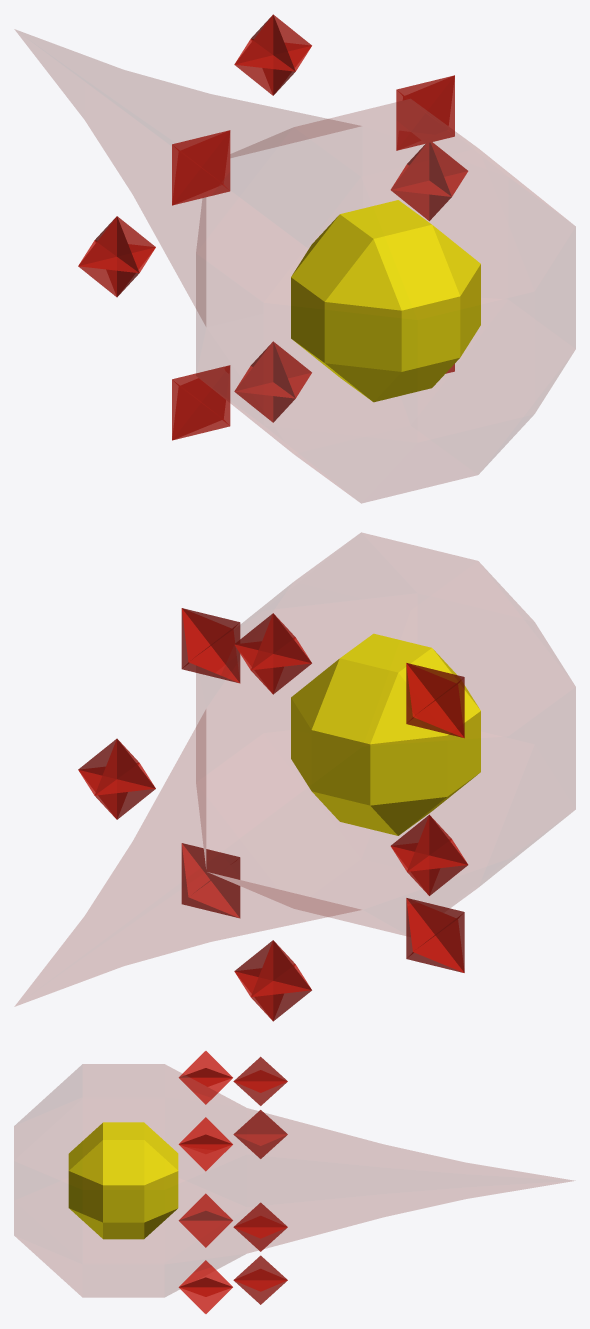
File: model_3081_spotanim.obj
The picture shows the model from 3 angles, top to bottom: view 1: azimuth 30°, elevation 25°; view 2: azimuth 150°, elevation 25°; view 3: azimuth 270°, elevation 25°; orthographic projection. The views are drawn at different scales.
Parts seen in each view (by area): view 1: 3081; view 2: 3081; view 3: 3081.
Part boxes in pixels (x1,y1,x2,y2): 3081: [15, 14, 575, 503]; 3081: [15, 532, 575, 1021]; 3081: [14, 1051, 573, 1313].
Size of the model in its own units: 40 by 40 by 82.
